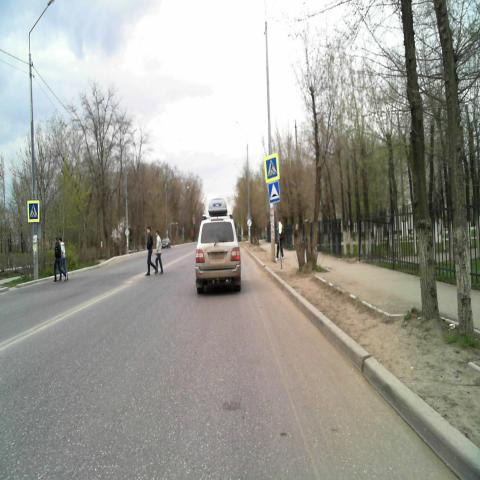3_31: (247, 218, 251, 227)
5_19_1: (264, 154, 280, 183), (28, 199, 40, 222)
5_20: (268, 181, 281, 205)
